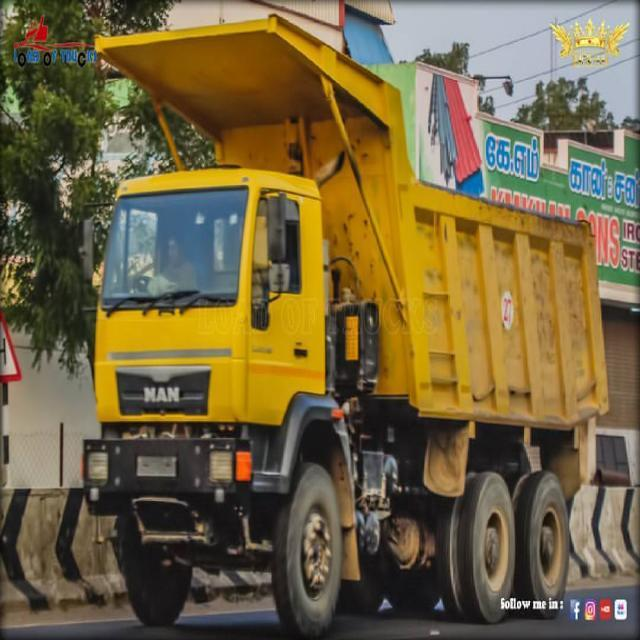Truck: (78, 23, 615, 631)
